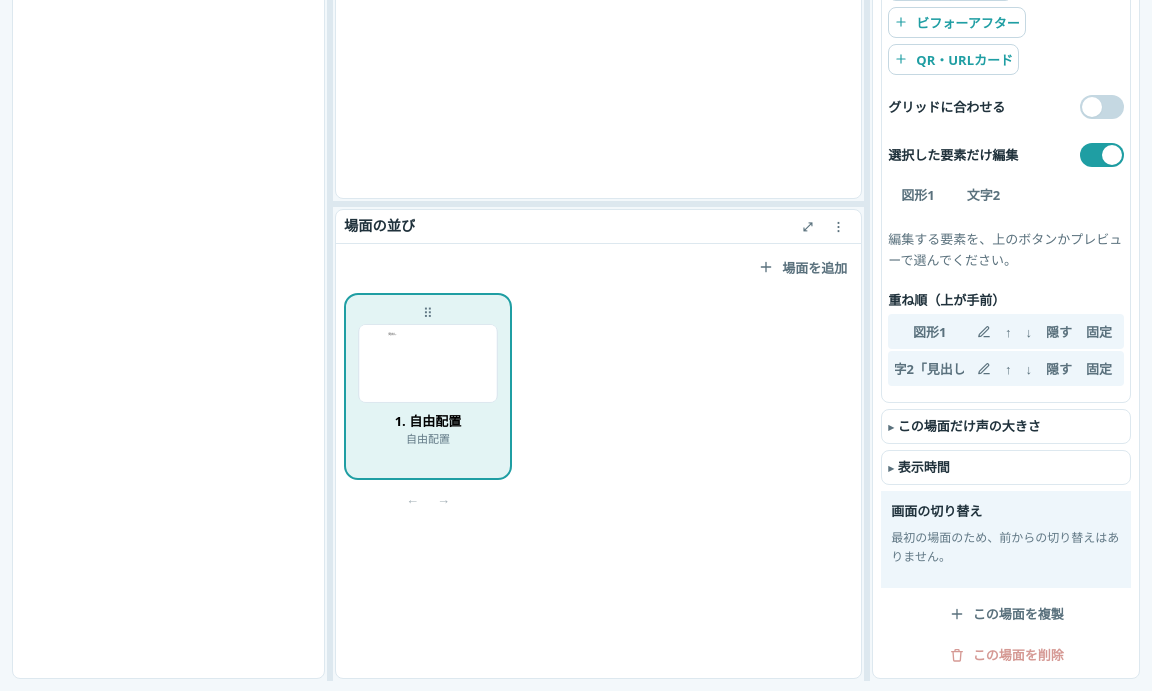
SceneEditScreen FREE 要素の命名（#525-12） › 「名前」ボタン→入力→Enter で name を保存し、表示が変わる
(page scrolled)
Click the 1st button named "名前を変更" at (984, 332), box [971, 319, 997, 345]
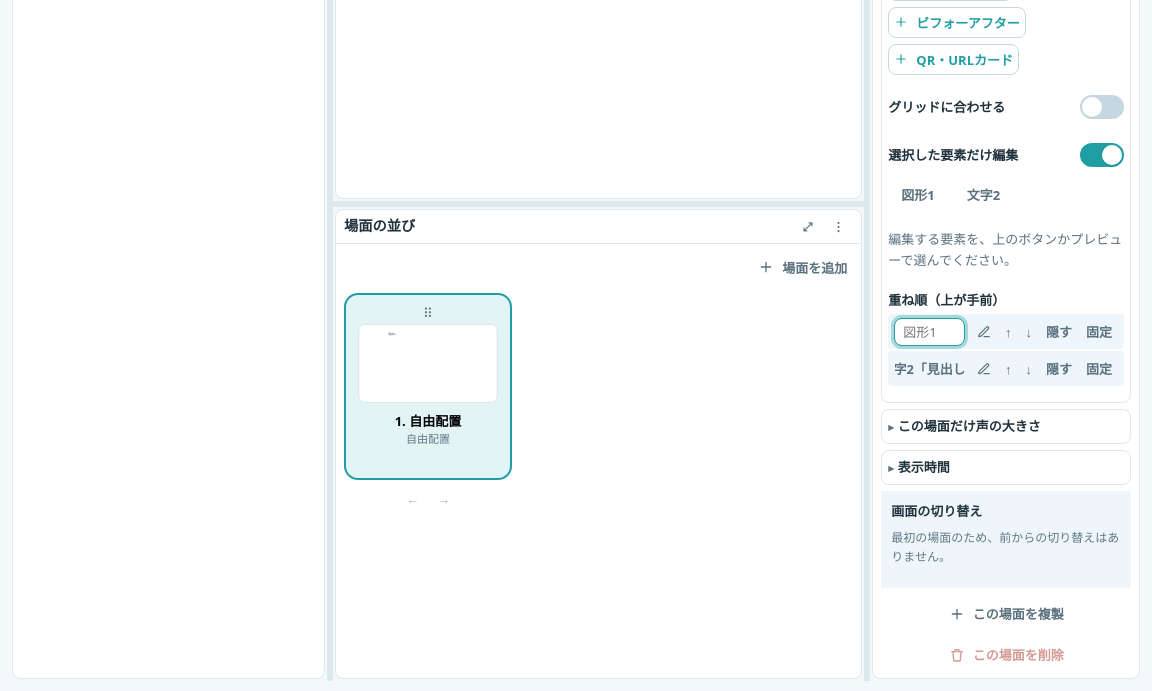
Type "背景の四角" into the field named "要素名" at (930, 332), box [894, 318, 965, 346]
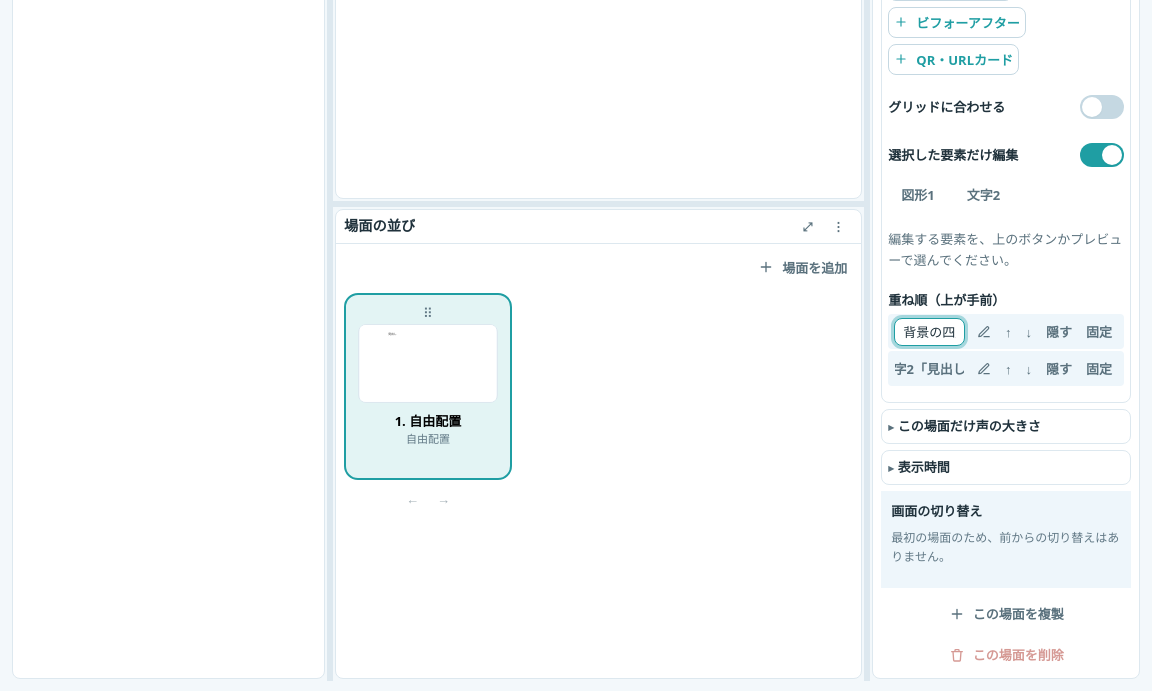
Press Enter in the field named "要素名", box [894, 318, 965, 346]
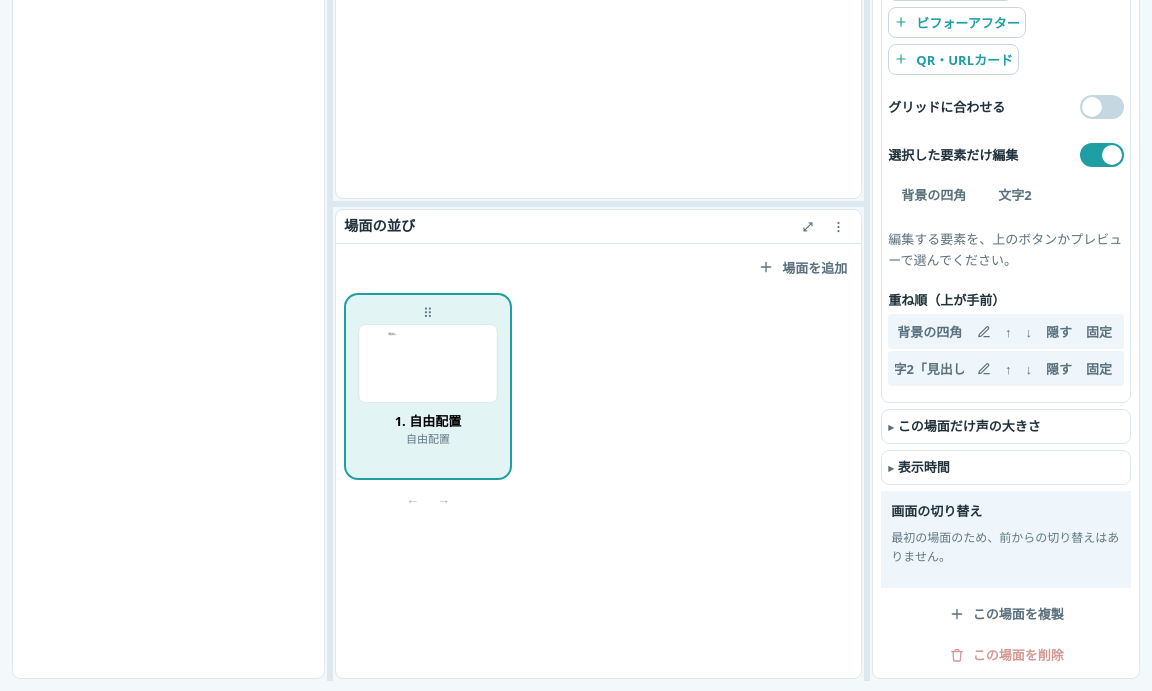
Expected: the 1st button "背景の四角" is shown, [888, 179, 979, 210]
